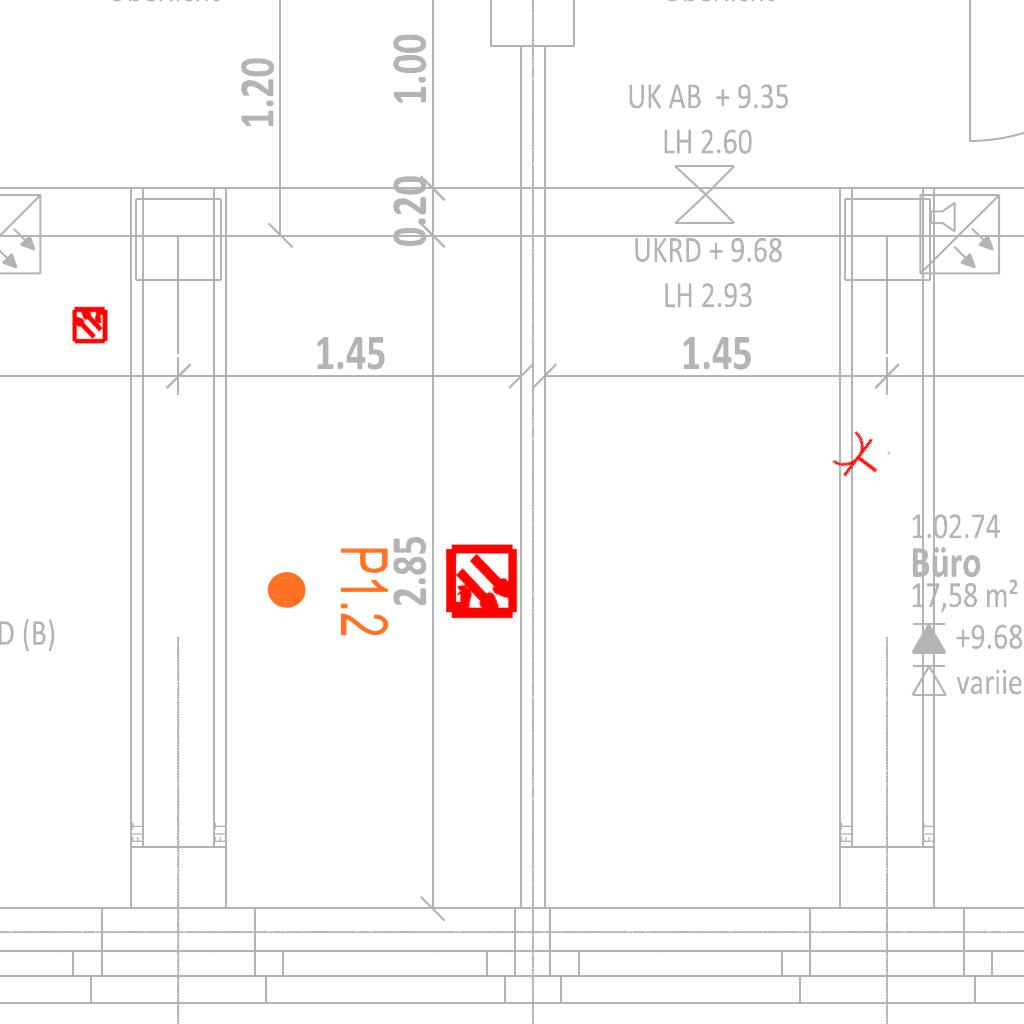Downlight_LED_Einbauleuchten_Flur: (264, 545, 392, 638)
OT_Multisensormelder_(Kombination_RMO_WMD): (425, 527, 538, 640), (62, 296, 118, 352)
Schukosteckdose_einfach: (828, 425, 893, 491)
